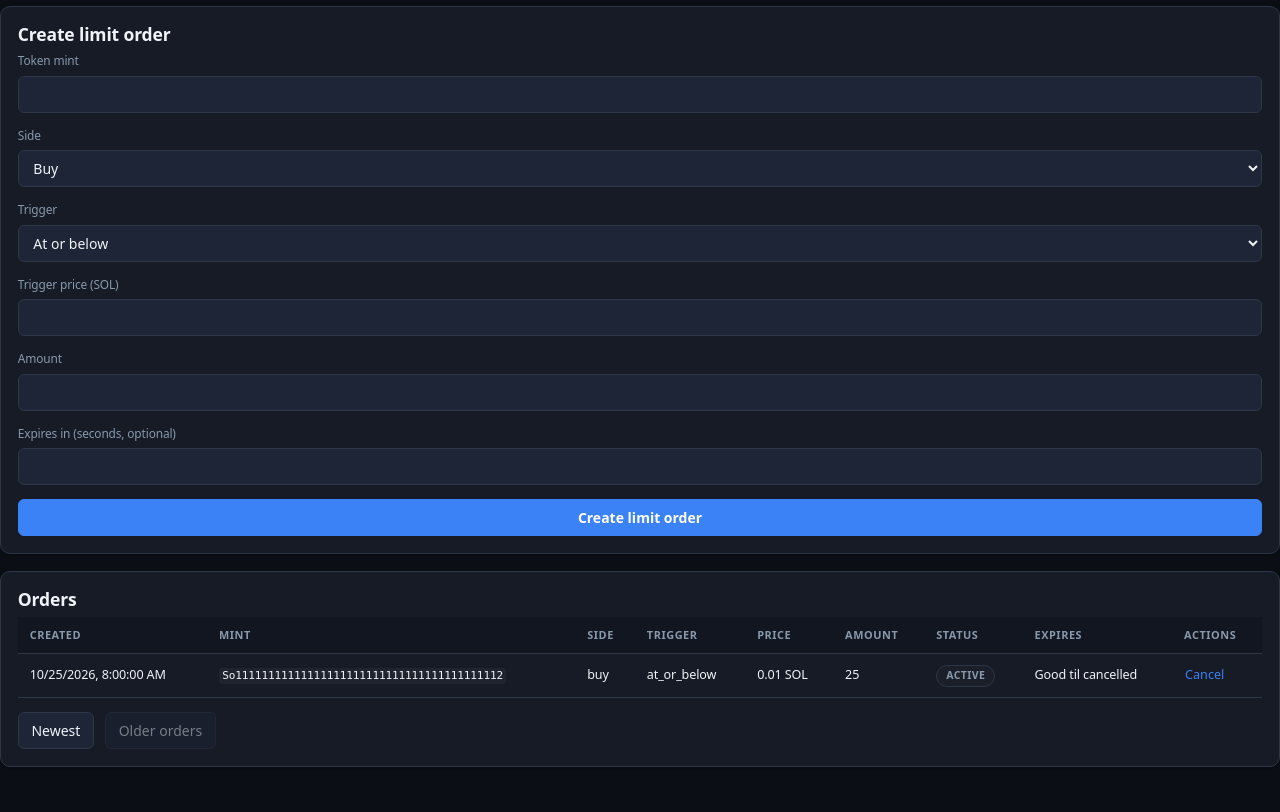
Limit orders › page shows cancelled status only after the server refetch returns it
Expected: the text "active" is shown, [936, 665, 996, 687]
Click the button "Cancel": point(1205, 676) [1184, 665, 1225, 686]
(page scrolled)
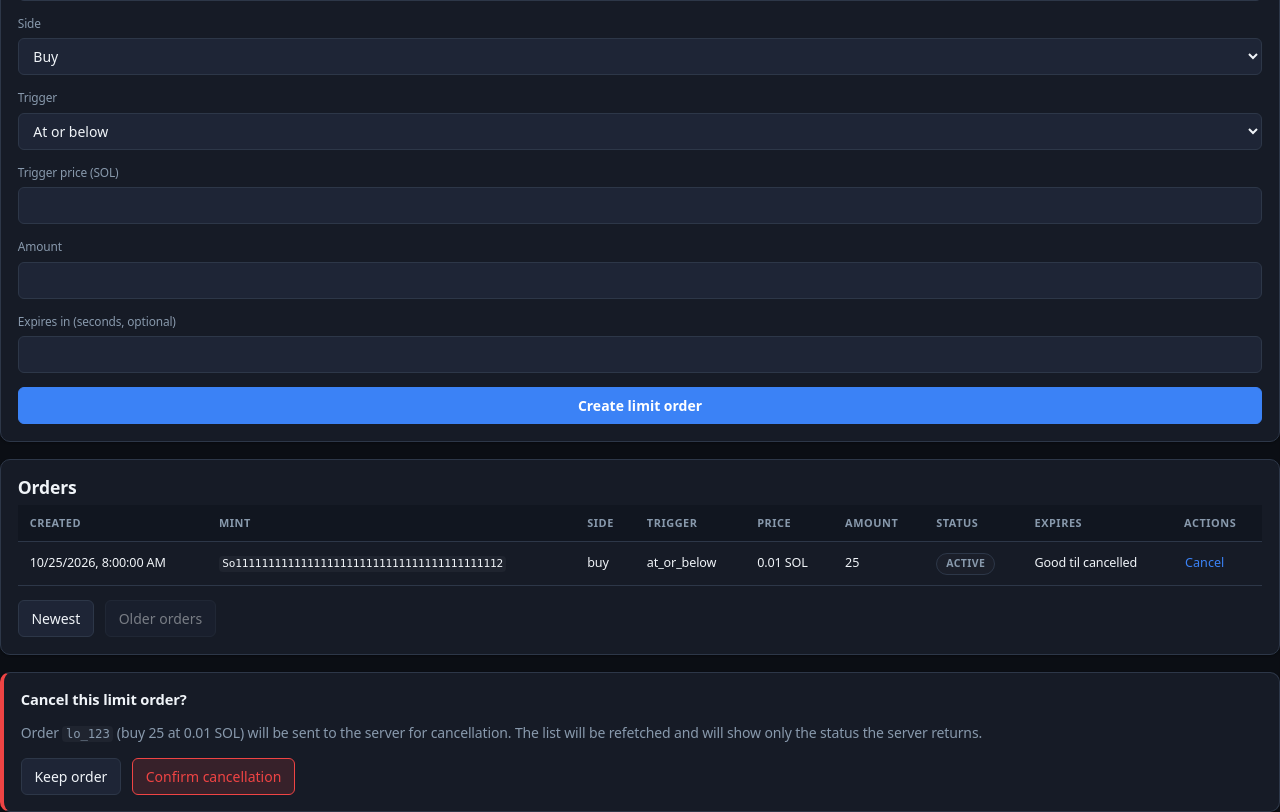
Expected: the text "active" is shown, [936, 553, 996, 575]
Click the button "Confirm cancellation": point(214, 776) [132, 758, 295, 795]
(page scrolled)
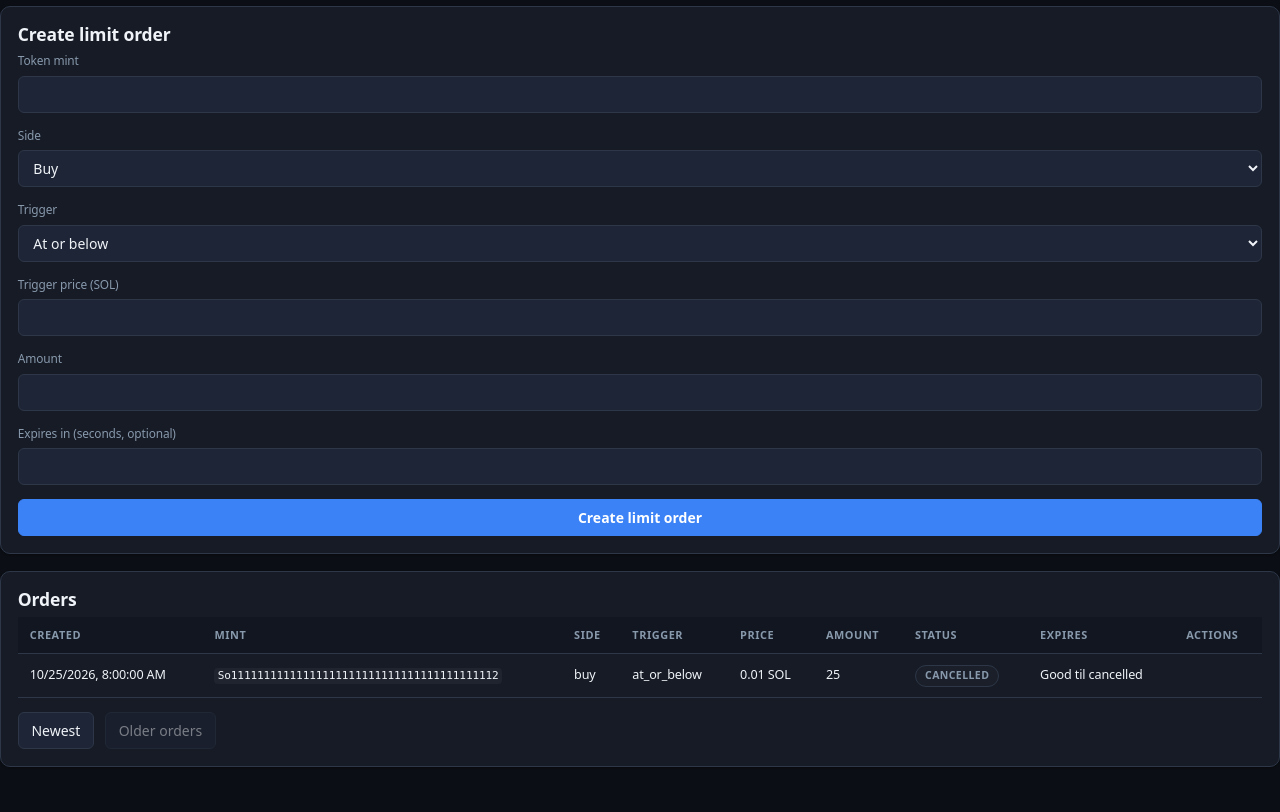
Now the text "cancelled" is shown, box [915, 665, 999, 687]
